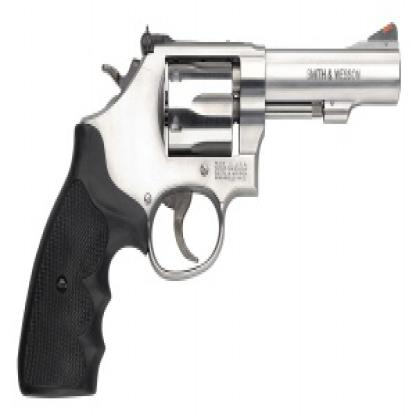Guns: (11, 16, 401, 398)
